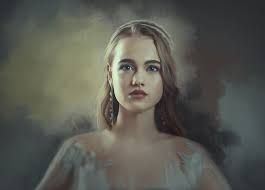no-mask: (103, 22, 180, 113)
